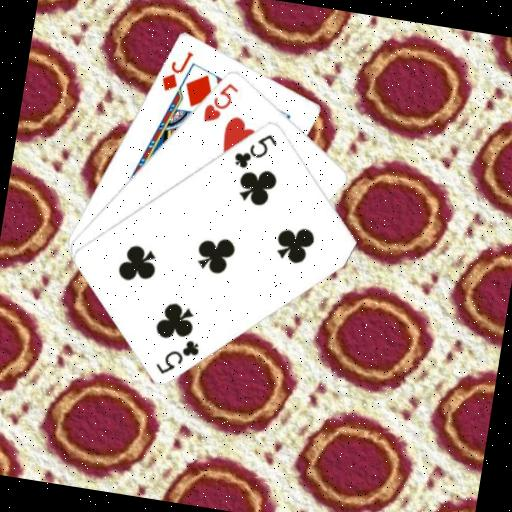5C: (228, 125, 279, 174), (151, 331, 202, 380)
5H: (198, 76, 241, 128)
JD: (156, 44, 195, 96)
